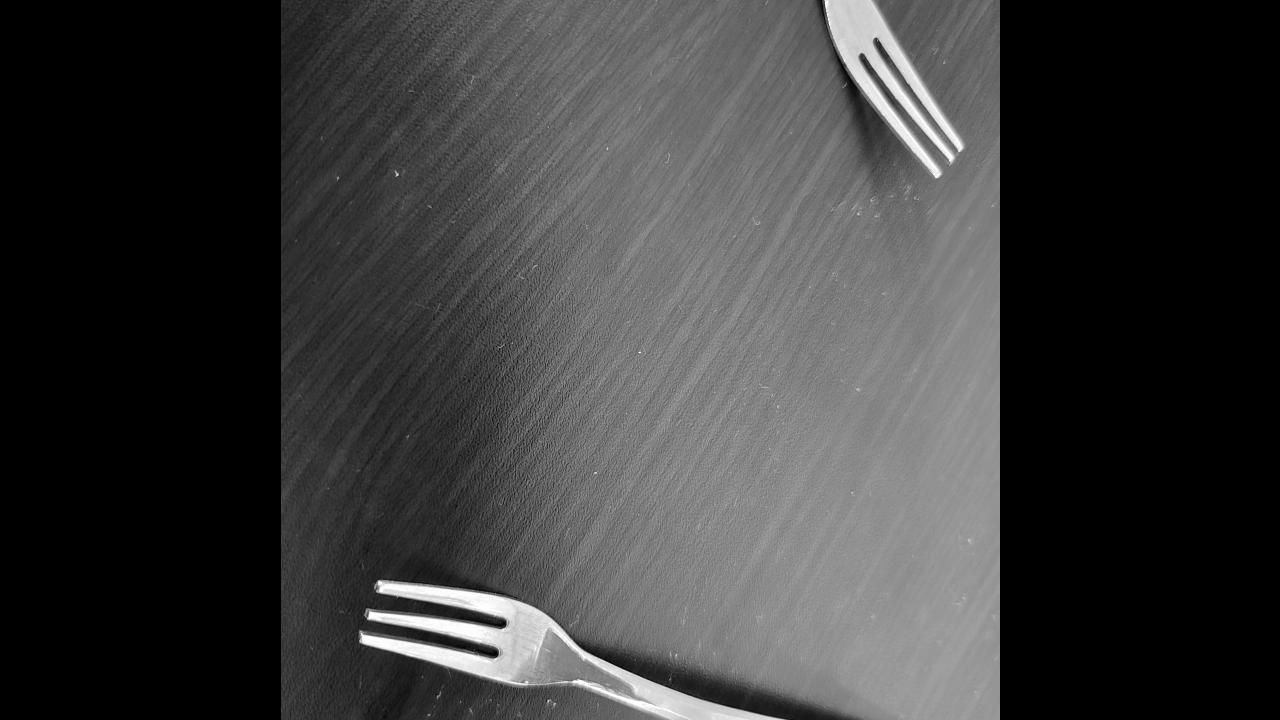fork: (364, 580, 978, 720), (672, 0, 964, 182)
